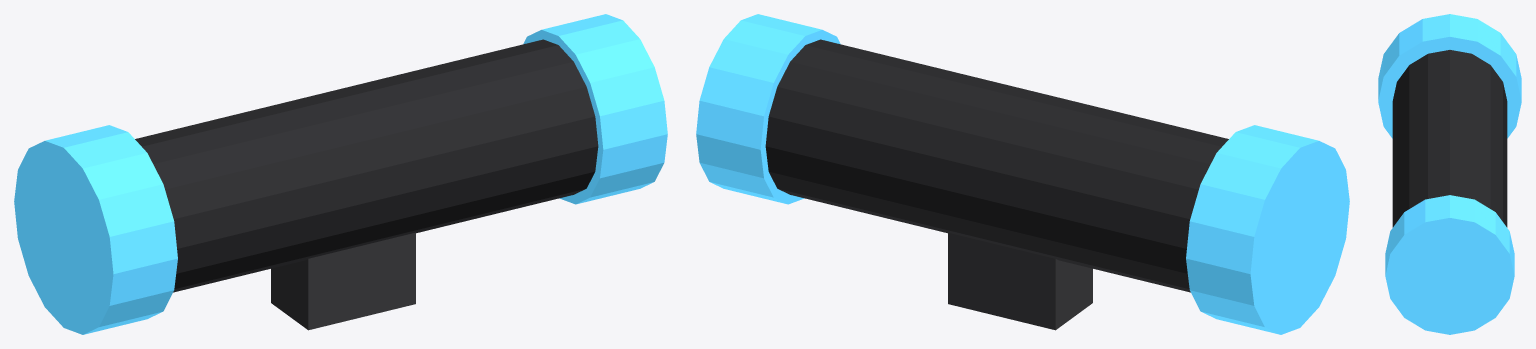
Rendered from SM_Mod_Scope.fbx.
3 renders of one model, left to right at view 1: azimuth 30°, elevation 25°; view 2: azimuth 150°, elevation 25°; view 3: azimuth 270°, elevation 25°, orthographic. The views are drawn at different scales.
Parts seen in each view (by area): view 1: SM_Mod_Scope; view 2: SM_Mod_Scope; view 3: SM_Mod_Scope.
Part boxes in pixels (bbox=[...]): SM_Mod_Scope: bbox=[14, 14, 667, 334]; SM_Mod_Scope: bbox=[696, 14, 1349, 334]; SM_Mod_Scope: bbox=[1378, 14, 1521, 334].
Bounding box in the file's own units: 26 × 8 × 9.95.
